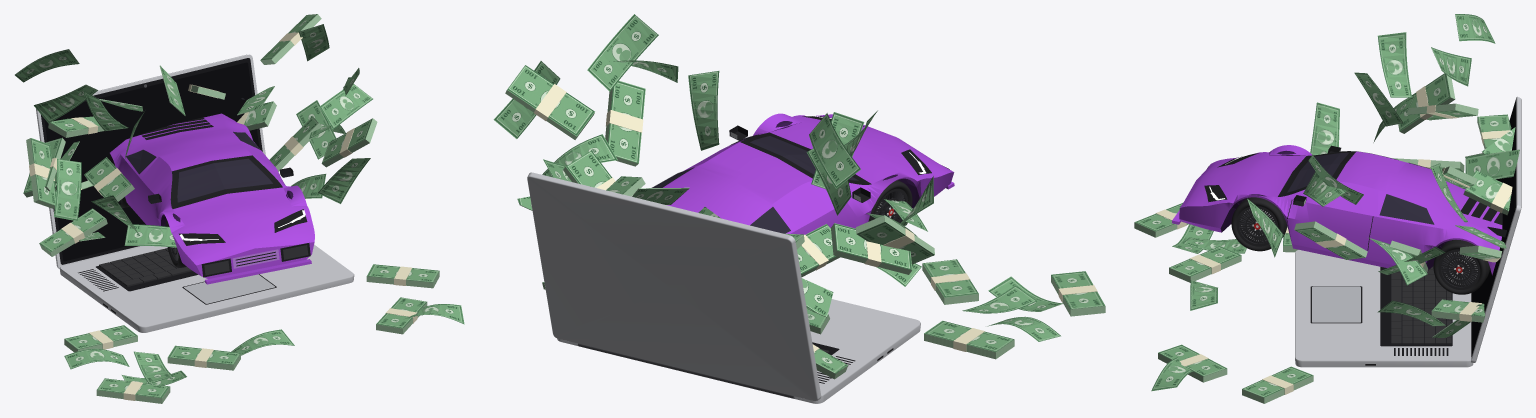
File: laptopcar.glb
3 views of the same model, side by side, from view 1: azimuth 30°, elevation 25°; view 2: azimuth 150°, elevation 25°; view 3: azimuth 270°, elevation 25° (orthographic). The views are drawn at different scales.
Parts seen in each view (by area): view 1: dinheiro, notebook, carro_roxo; view 2: notebook, dinheiro, carro_roxo; view 3: dinheiro, carro_roxo, notebook.
Part boxes in pixels (x1=…): dinheiro: x1=15, y1=14, x2=464, y2=403; notebook: x1=36, y1=54, x2=354, y2=332; carro_roxo: x1=110, y1=98, x2=314, y2=284; notebook: x1=527, y1=172, x2=920, y2=403; dinheiro: x1=493, y1=14, x2=1105, y2=379; carro_roxo: x1=652, y1=113, x2=954, y2=234; dinheiro: x1=1134, y1=14, x2=1519, y2=403; carro_roxo: x1=1172, y1=145, x2=1506, y2=294; notebook: x1=1295, y1=96, x2=1521, y2=367.
Bounding box in the file's own units: 1.09 × 0.6453 × 0.908.
27 materials, 2 textured.
